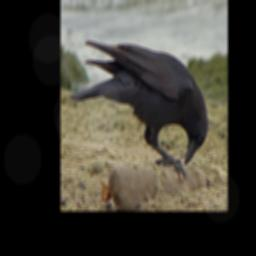Crow: (67, 40, 208, 183)
